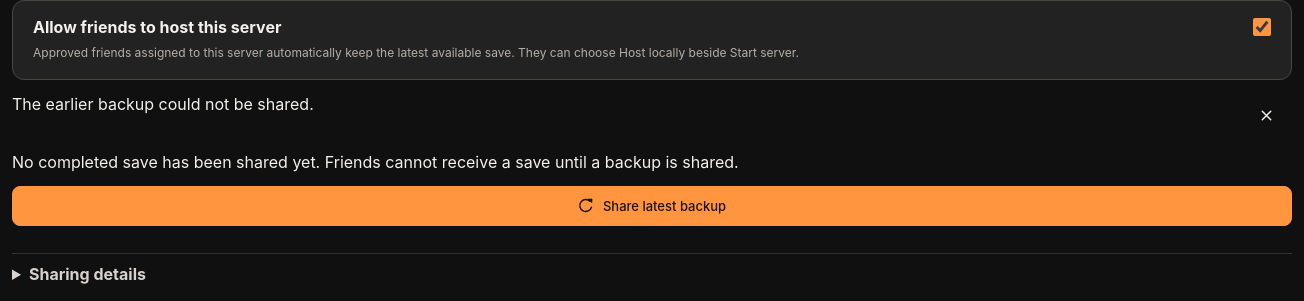
it: sharing the latest backup › rereads a successful publication and distinguishes availability from confirmed receipt
Click the button "Share latest backup".
click(652, 206)  # box [12,186,1292,226]
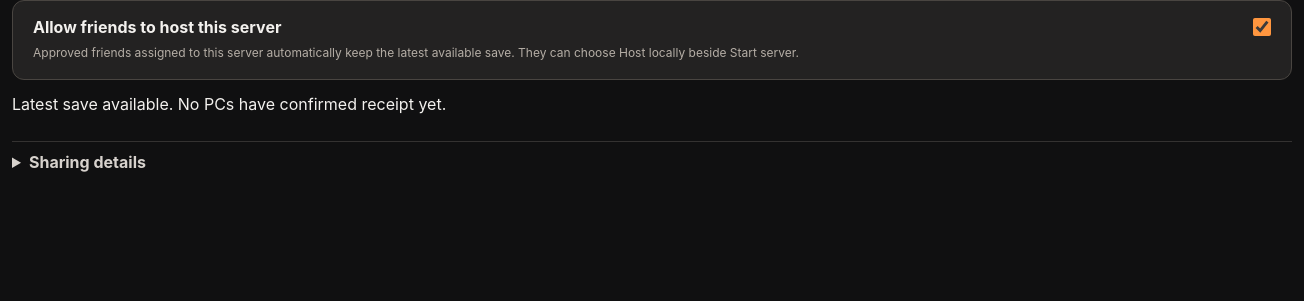
Result: the text "Latest save available. No PCs have confirmed receipt yet." is shown at [12,94,446,114]
Result: the text "The earlier backup could not be shared." is gone
Result: the button "Share latest backup" is gone
